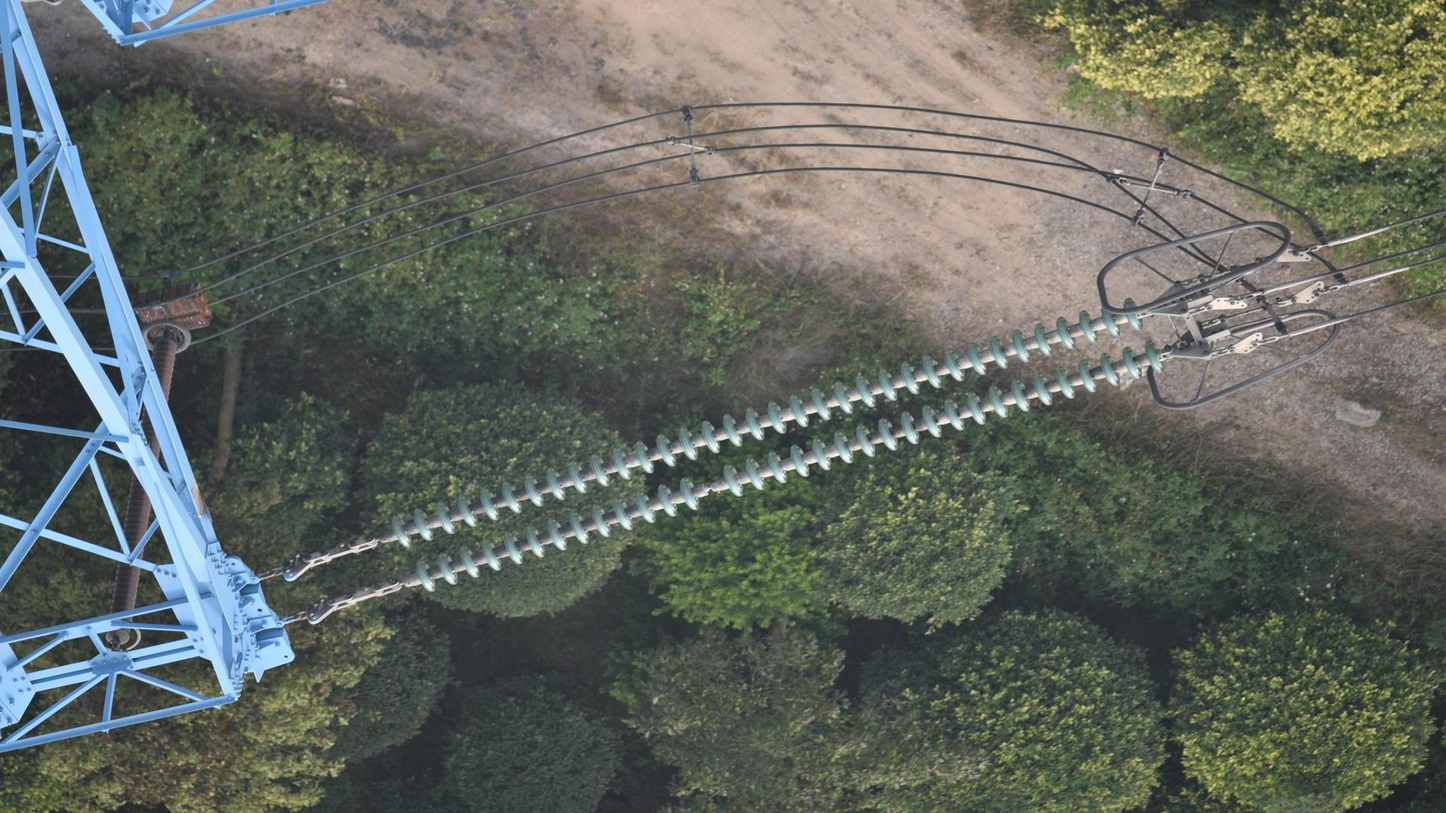insulator: (386, 294, 1166, 598), (99, 476, 154, 632), (149, 333, 182, 397)
insulator_stringdrop: (678, 460, 745, 513)
